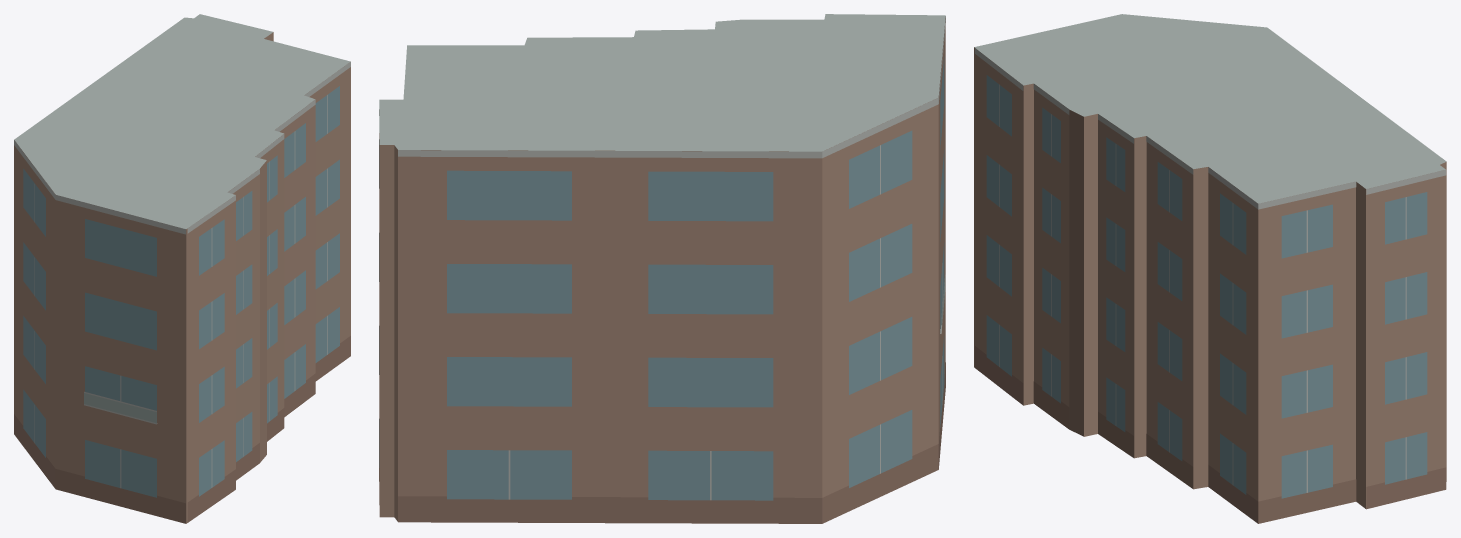
Rendered from survey-upis-32775442.glb.
3 views of the same model, side by side, from view 1: azimuth 30°, elevation 25°; view 2: azimuth 150°, elevation 25°; view 3: azimuth 270°, elevation 25° (orthographic). The views are drawn at different scales.
Parts seen in each view (by area): view 1: survey-upis-32775442.tmp; view 2: survey-upis-32775442.tmp; view 3: survey-upis-32775442.tmp.
Part boxes in pixels (x1,y1,x2,y2): survey-upis-32775442.tmp: [14, 14, 350, 523]; survey-upis-32775442.tmp: [379, 14, 945, 523]; survey-upis-32775442.tmp: [974, 14, 1446, 523].
Bounding box in the file's own units: 17.04 × 13.4 × 17.94.
